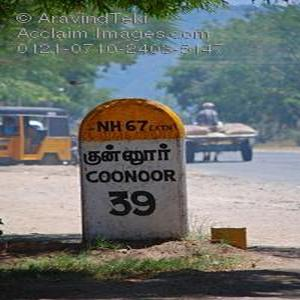kmstone: (75, 89, 193, 248)
